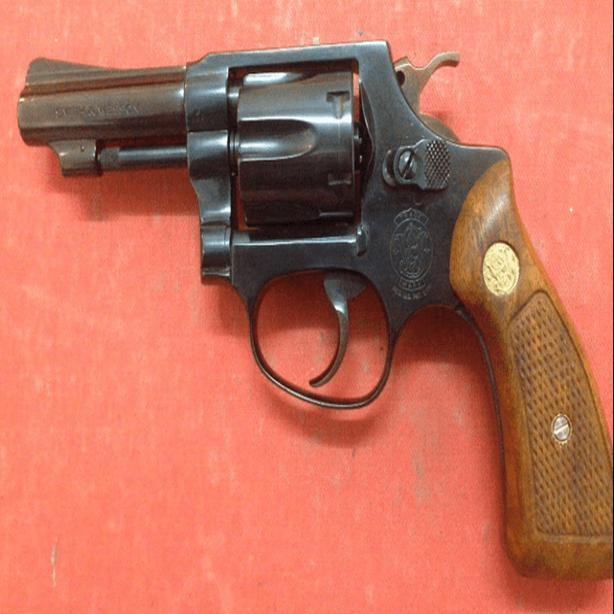Firearm: (9, 30, 614, 614)
